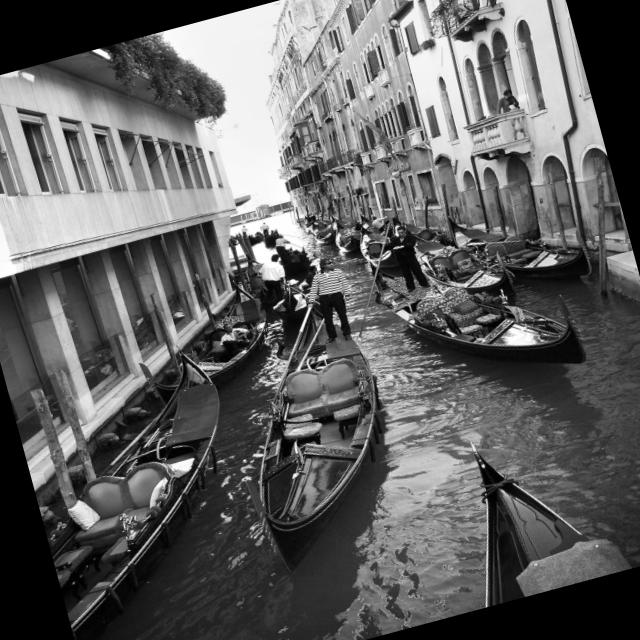boat: (178, 232, 432, 582), (6, 332, 284, 640), (365, 188, 598, 410)
